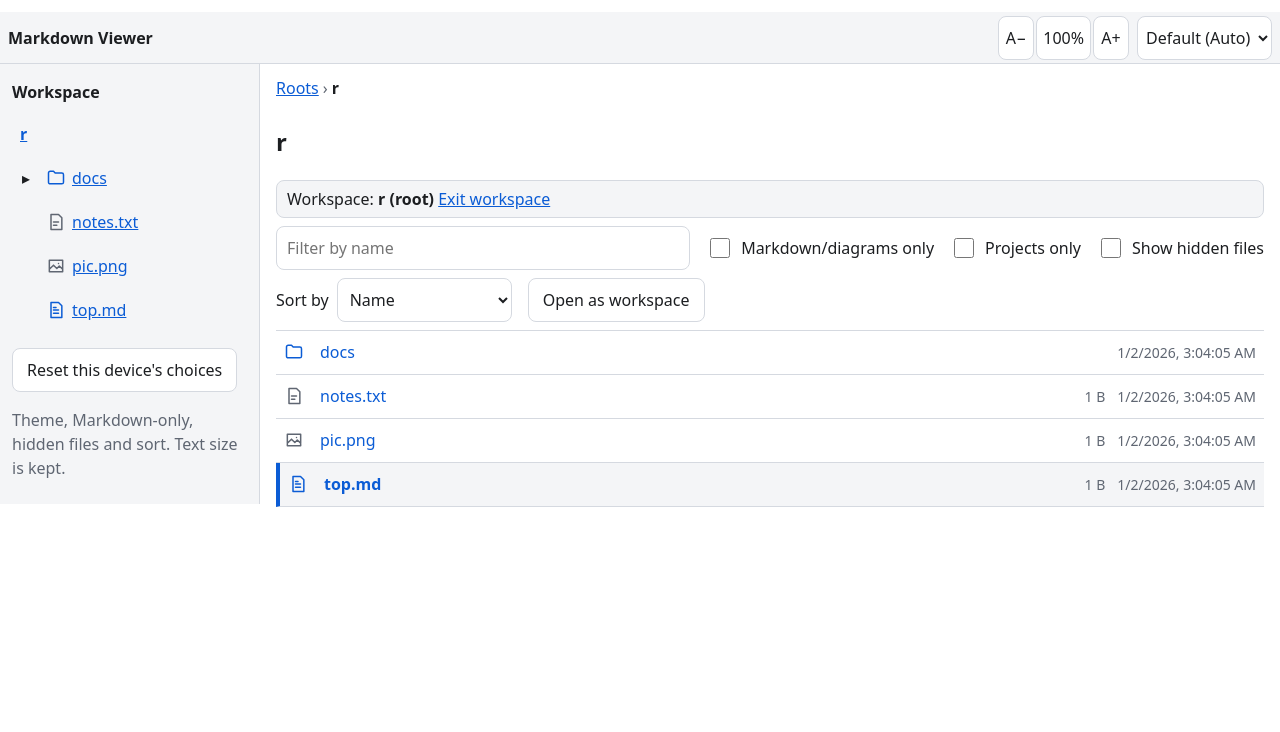
Scenario: WorkspaceTree › follows the browse view markdown-only toggle
Expected: the 1st link "top.md" is shown, left=46, top=299, right=126, bottom=321
Expected: the 1st link "notes.txt" is shown, left=46, top=211, right=138, bottom=233
Click the checkbox labelled "Markdown/diagrams only": (720, 248) left=710, top=238, right=730, bottom=258
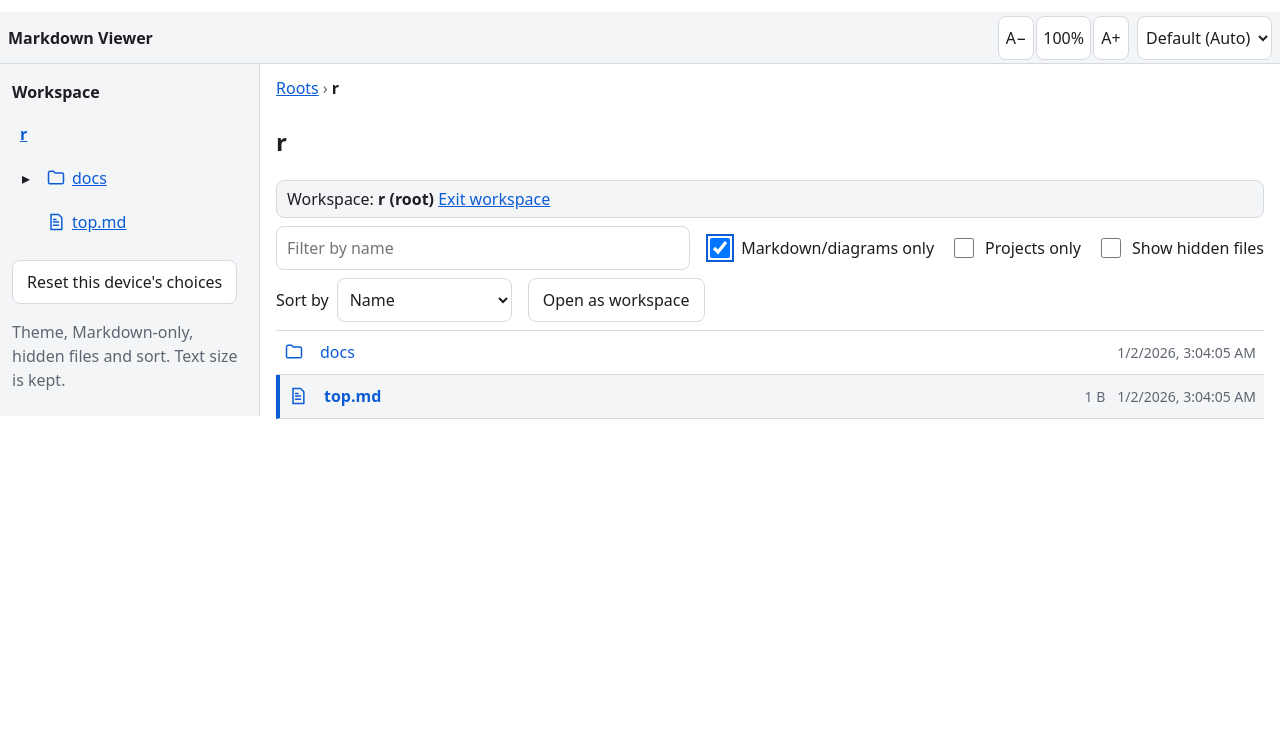
Expected: the 1st link "docs" is shown, left=46, top=167, right=107, bottom=189
Result: the link "notes.txt" is gone
Result: the link "pic.png" is gone
Click the checkbox labelled "Markdown/diagrams only": (720, 248) left=710, top=238, right=730, bottom=258
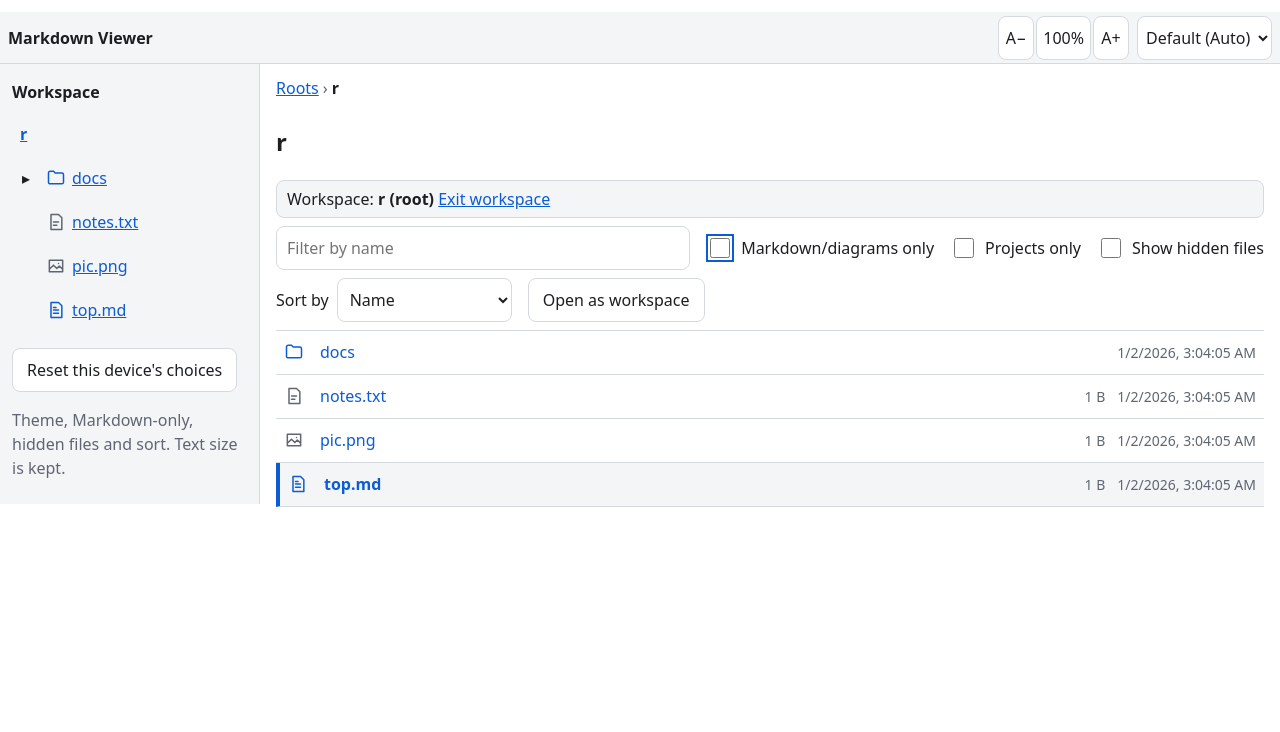
Result: the 1st link "notes.txt" is shown at left=46, top=211, right=138, bottom=233
